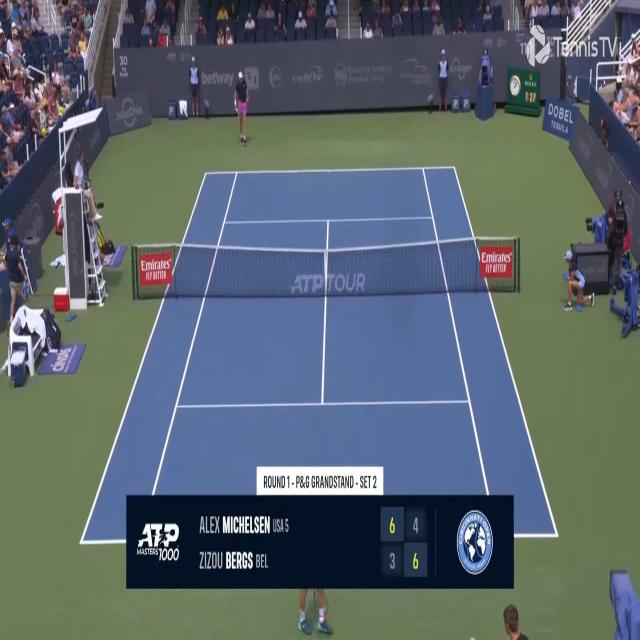tennis-player: (234, 68, 249, 144)
